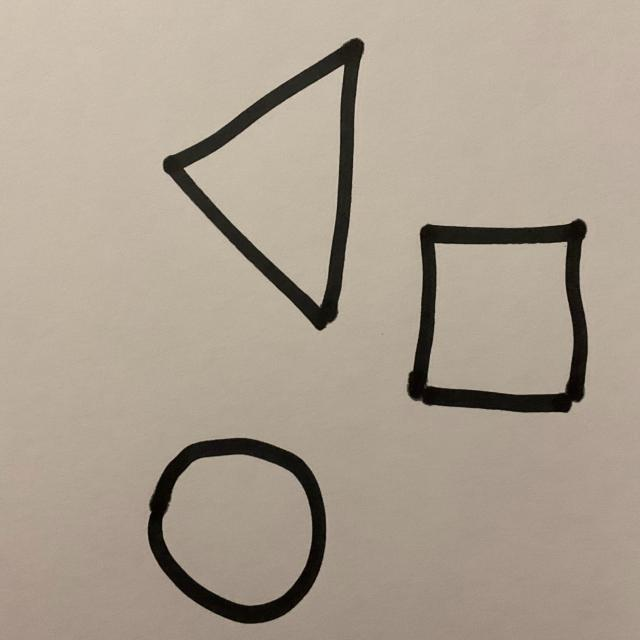Dreieck: (162, 38, 365, 332)
Kreis: (145, 438, 328, 627)
Quadrat: (406, 221, 590, 416)
